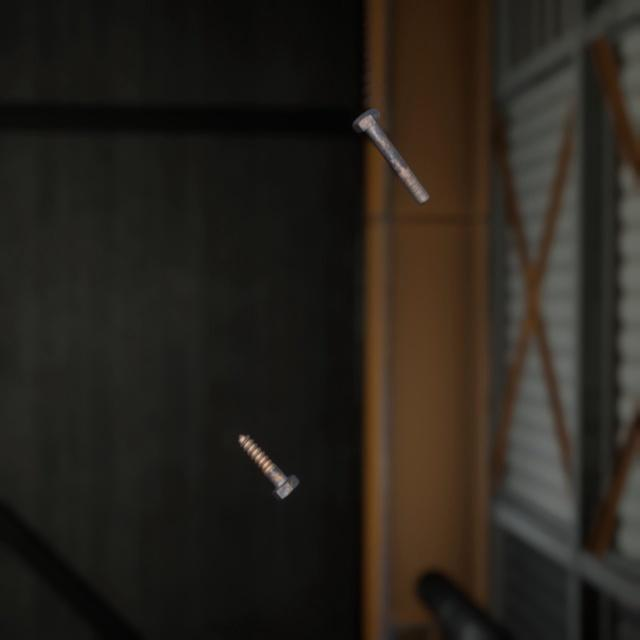bolt: (347, 91, 434, 196), (233, 409, 304, 483)
